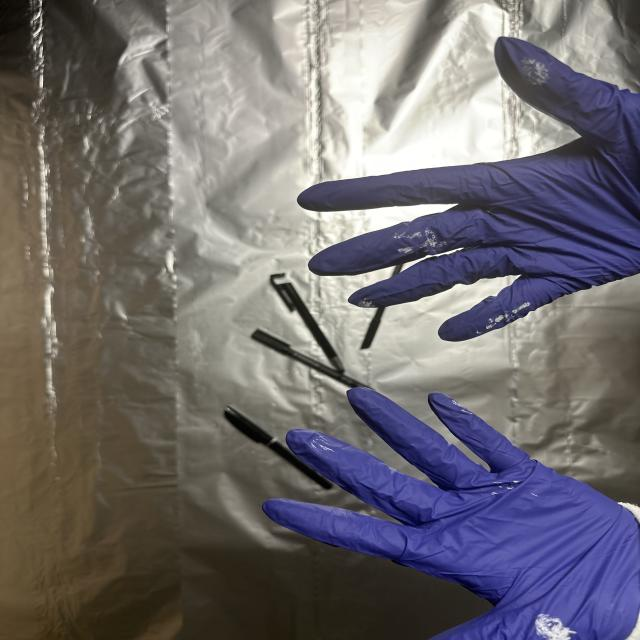gloves_contaminated: (298, 37, 640, 342), (263, 388, 640, 640)
